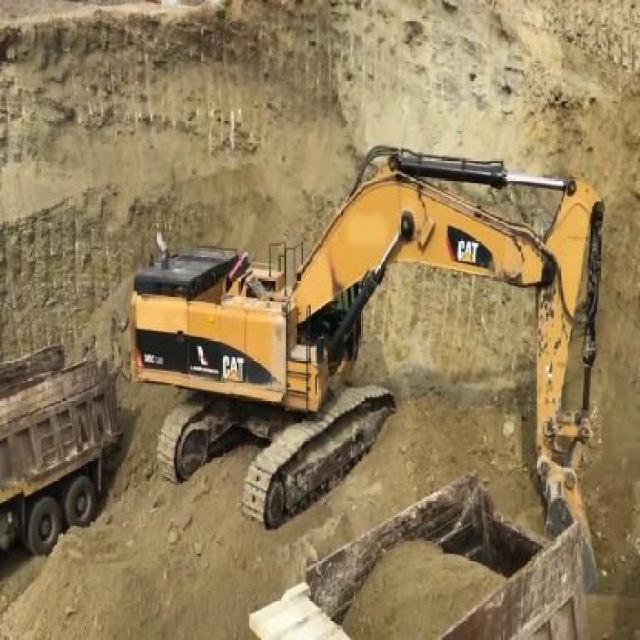Dump Truck: (246, 466, 591, 639), (0, 340, 122, 562)
Excavator: (129, 140, 605, 592)
